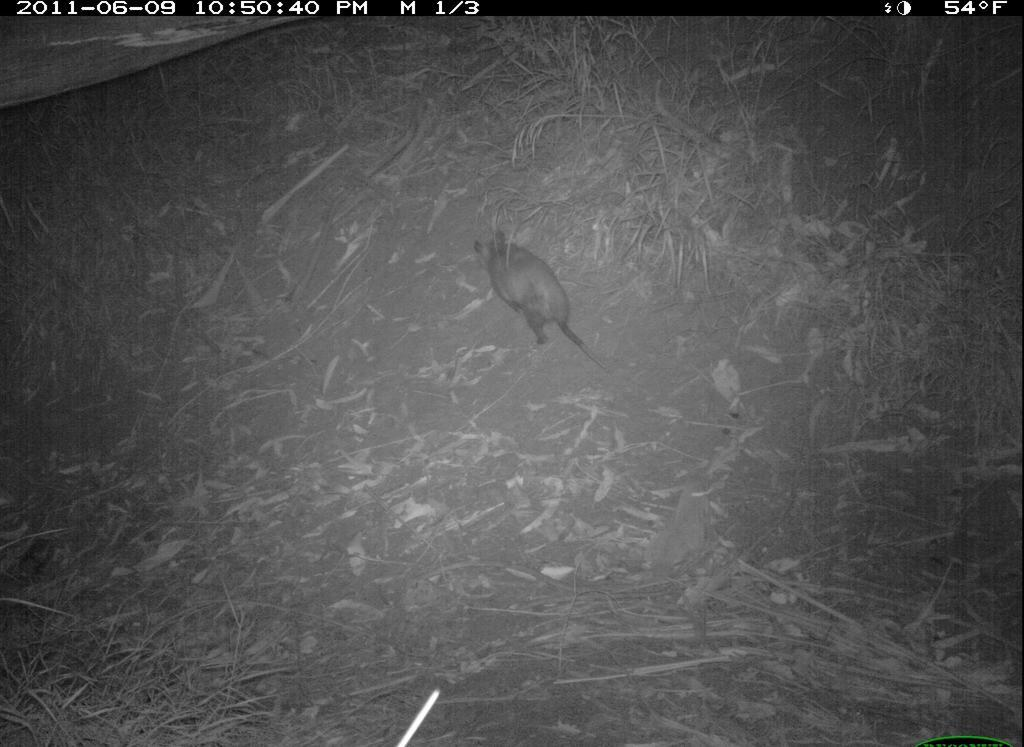opossum: (461, 216, 633, 402)
